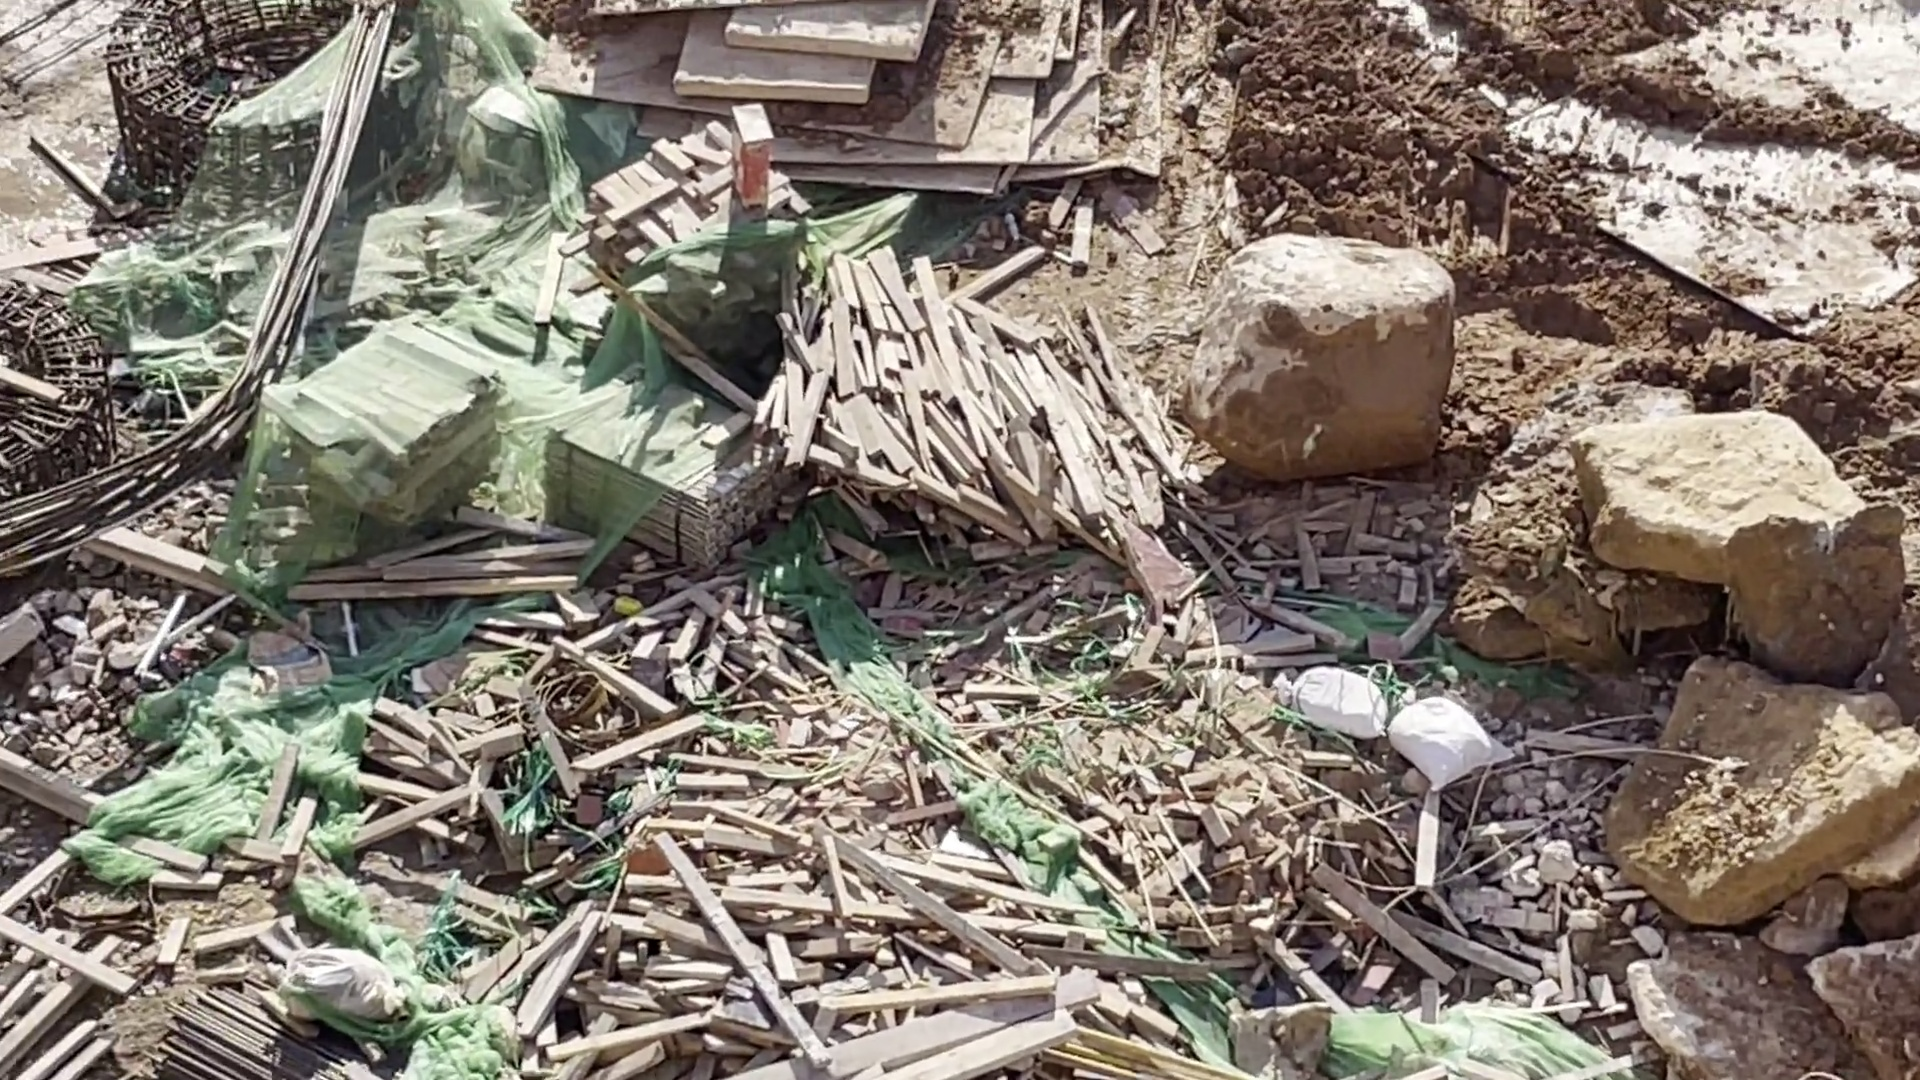board: (562, 1, 1174, 200)
wood: (787, 264, 1147, 560), (297, 338, 504, 534), (546, 402, 786, 568)
